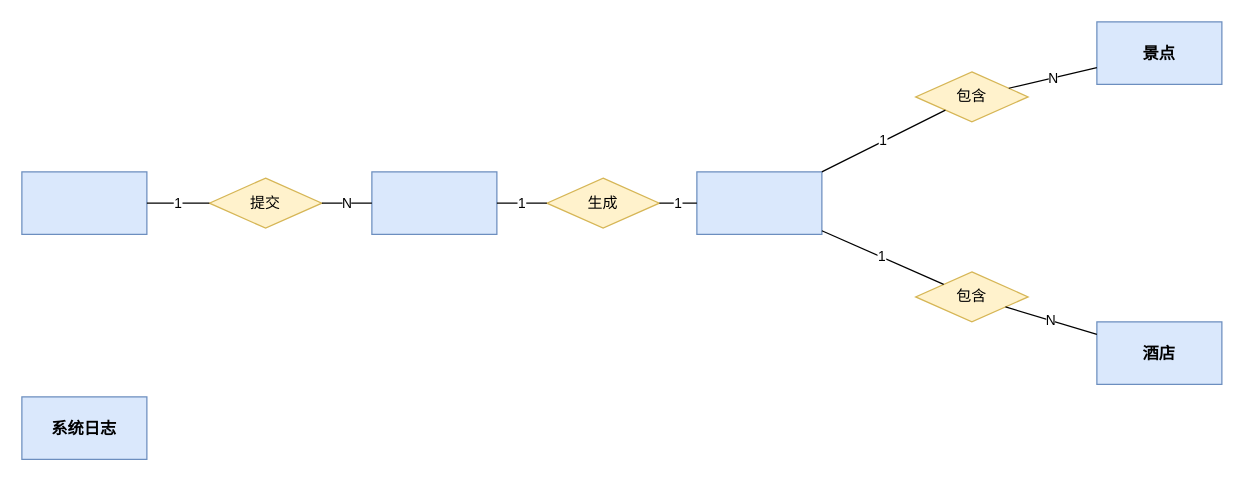
Image size: 1244x481. Some labels were removed from this diagram. The centre of each missing label's shape, as x and y in pixels:
"用户" belongs at (x=84, y=202).
"行程方案" belongs at (x=759, y=202).
"规划任务" belongs at (x=434, y=202).
